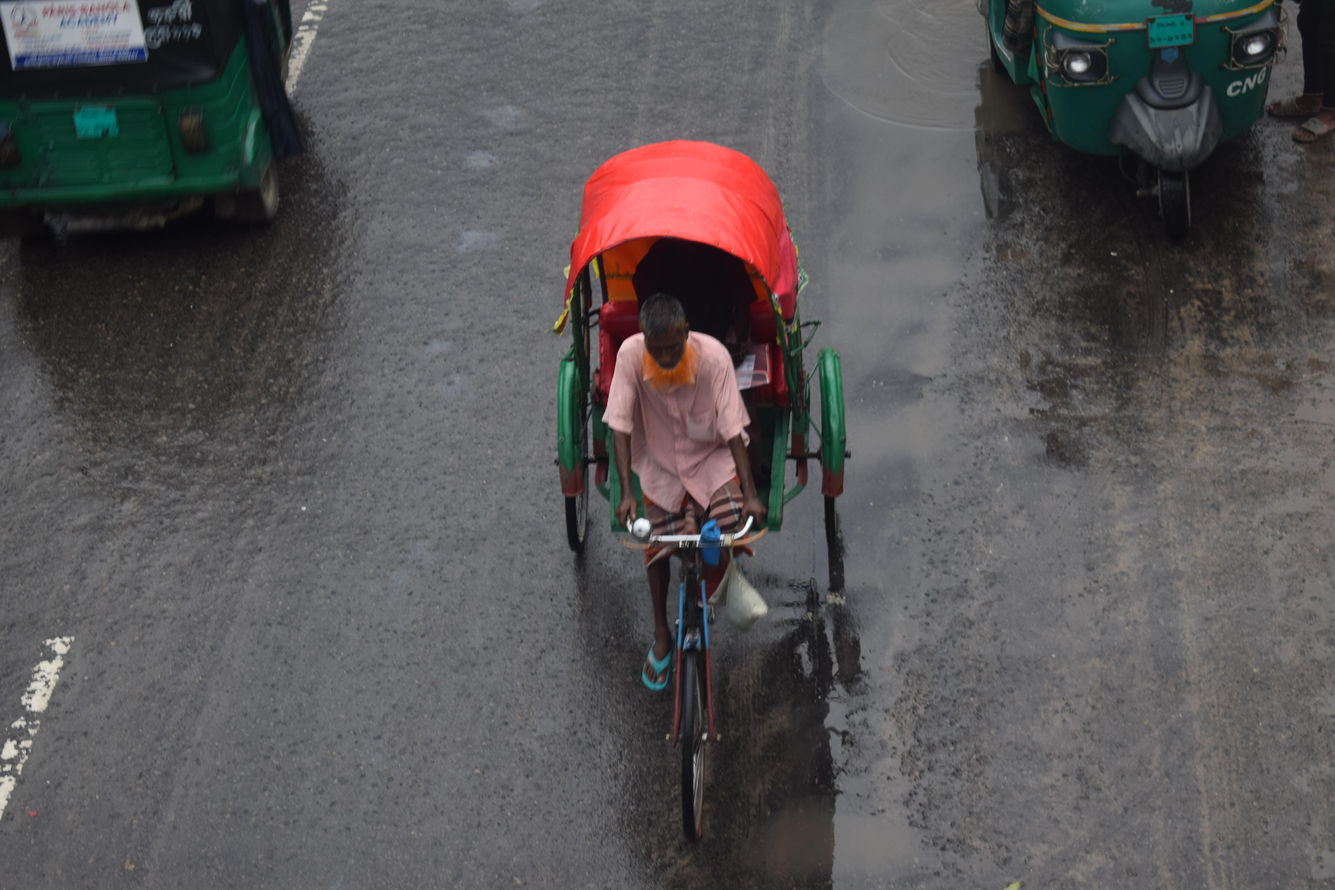Car: (451, 95, 940, 890)
